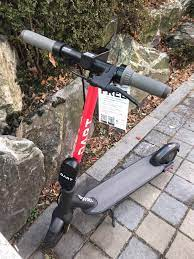kick_board: (21, 30, 179, 247)
kick_handler: (21, 30, 171, 105)
kick_wheel: (47, 215, 73, 250), (159, 143, 179, 166)
